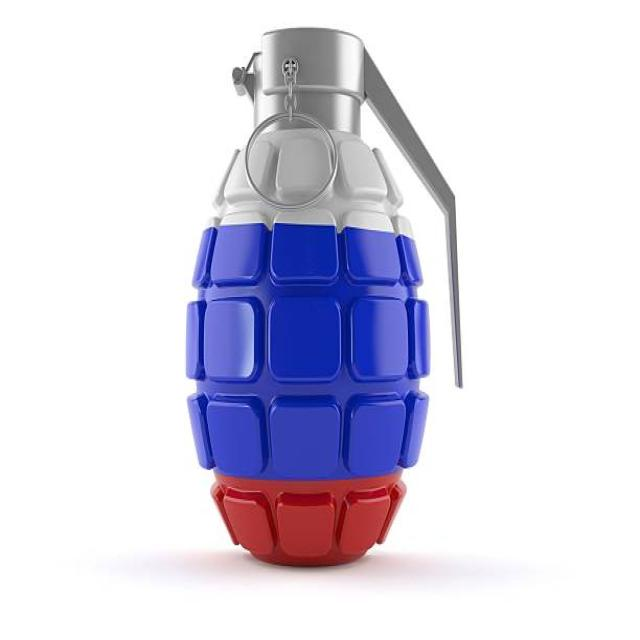grenade: (184, 24, 473, 582)
